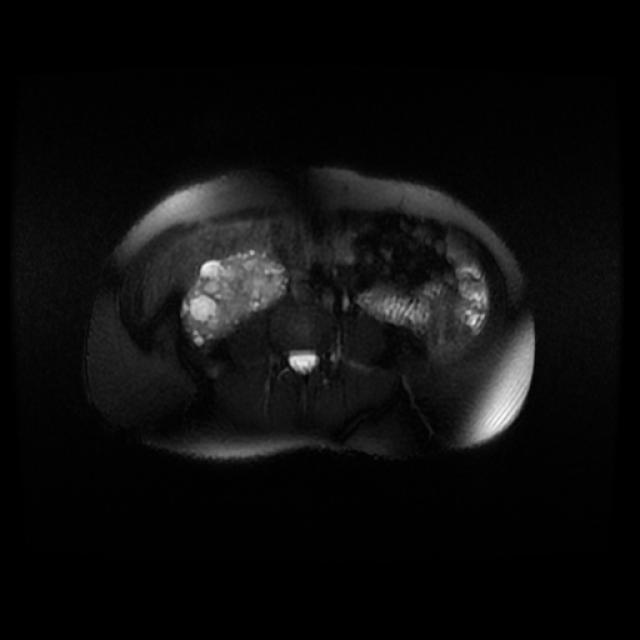sag: (180, 252, 290, 350)
